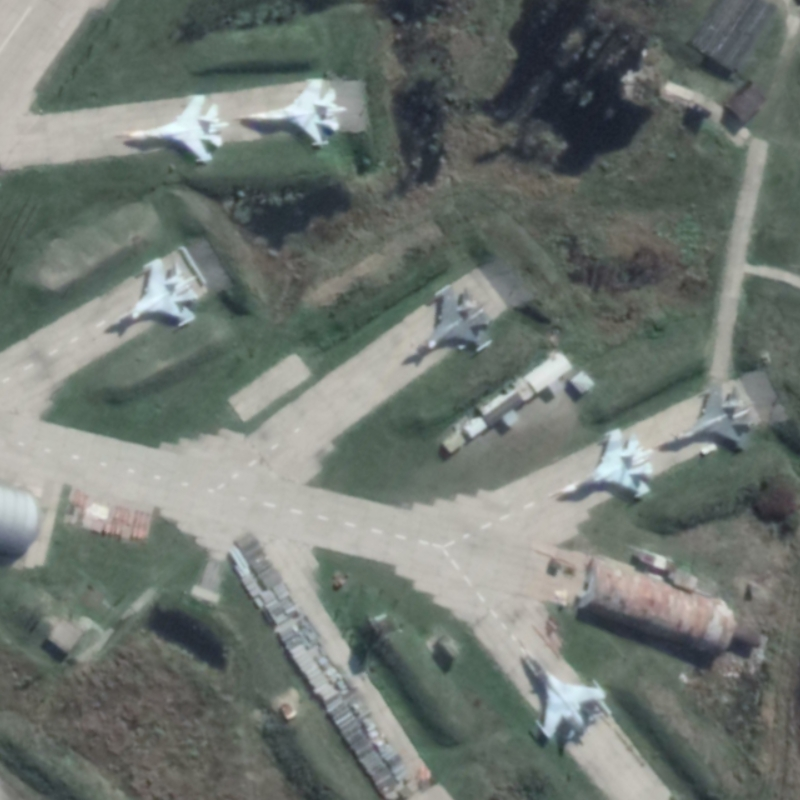A1: (236, 76, 349, 148), (120, 92, 232, 164), (554, 426, 656, 502), (525, 649, 608, 742), (405, 283, 494, 363), (656, 381, 753, 454), (112, 256, 202, 330)
